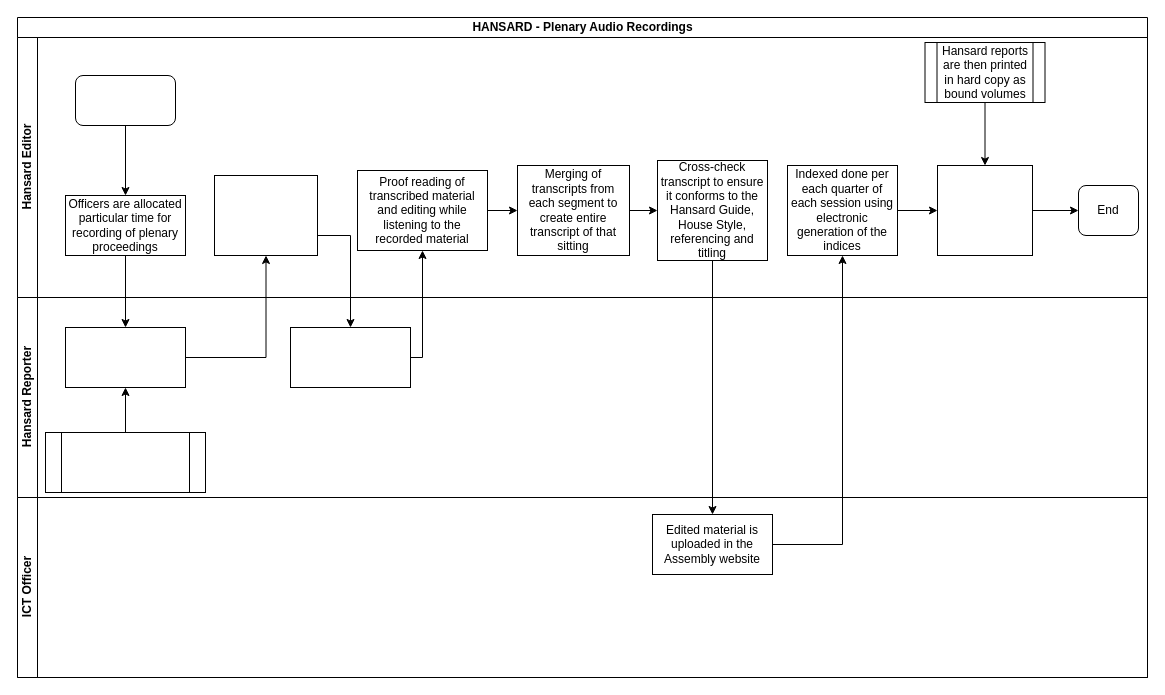
This 1165x695 diagram has some shape labels left out. The centre of each missing label's shape, as x and y in pixels:
"Officers use the recorded material to transcribe it into word format" belongs at point 350,357.
"Operate recording equipment during the proceedings" belongs at point 125,357.
"Segment the audio to allocate a segment of the recording for transcription" belongs at point 266,215.
"Start" belongs at point 125,100.
"The recordings and the Official reports are archived" belongs at point 984,210.
"Write all the happenings observed at the plenary in a notebook" belongs at point 125,462.
